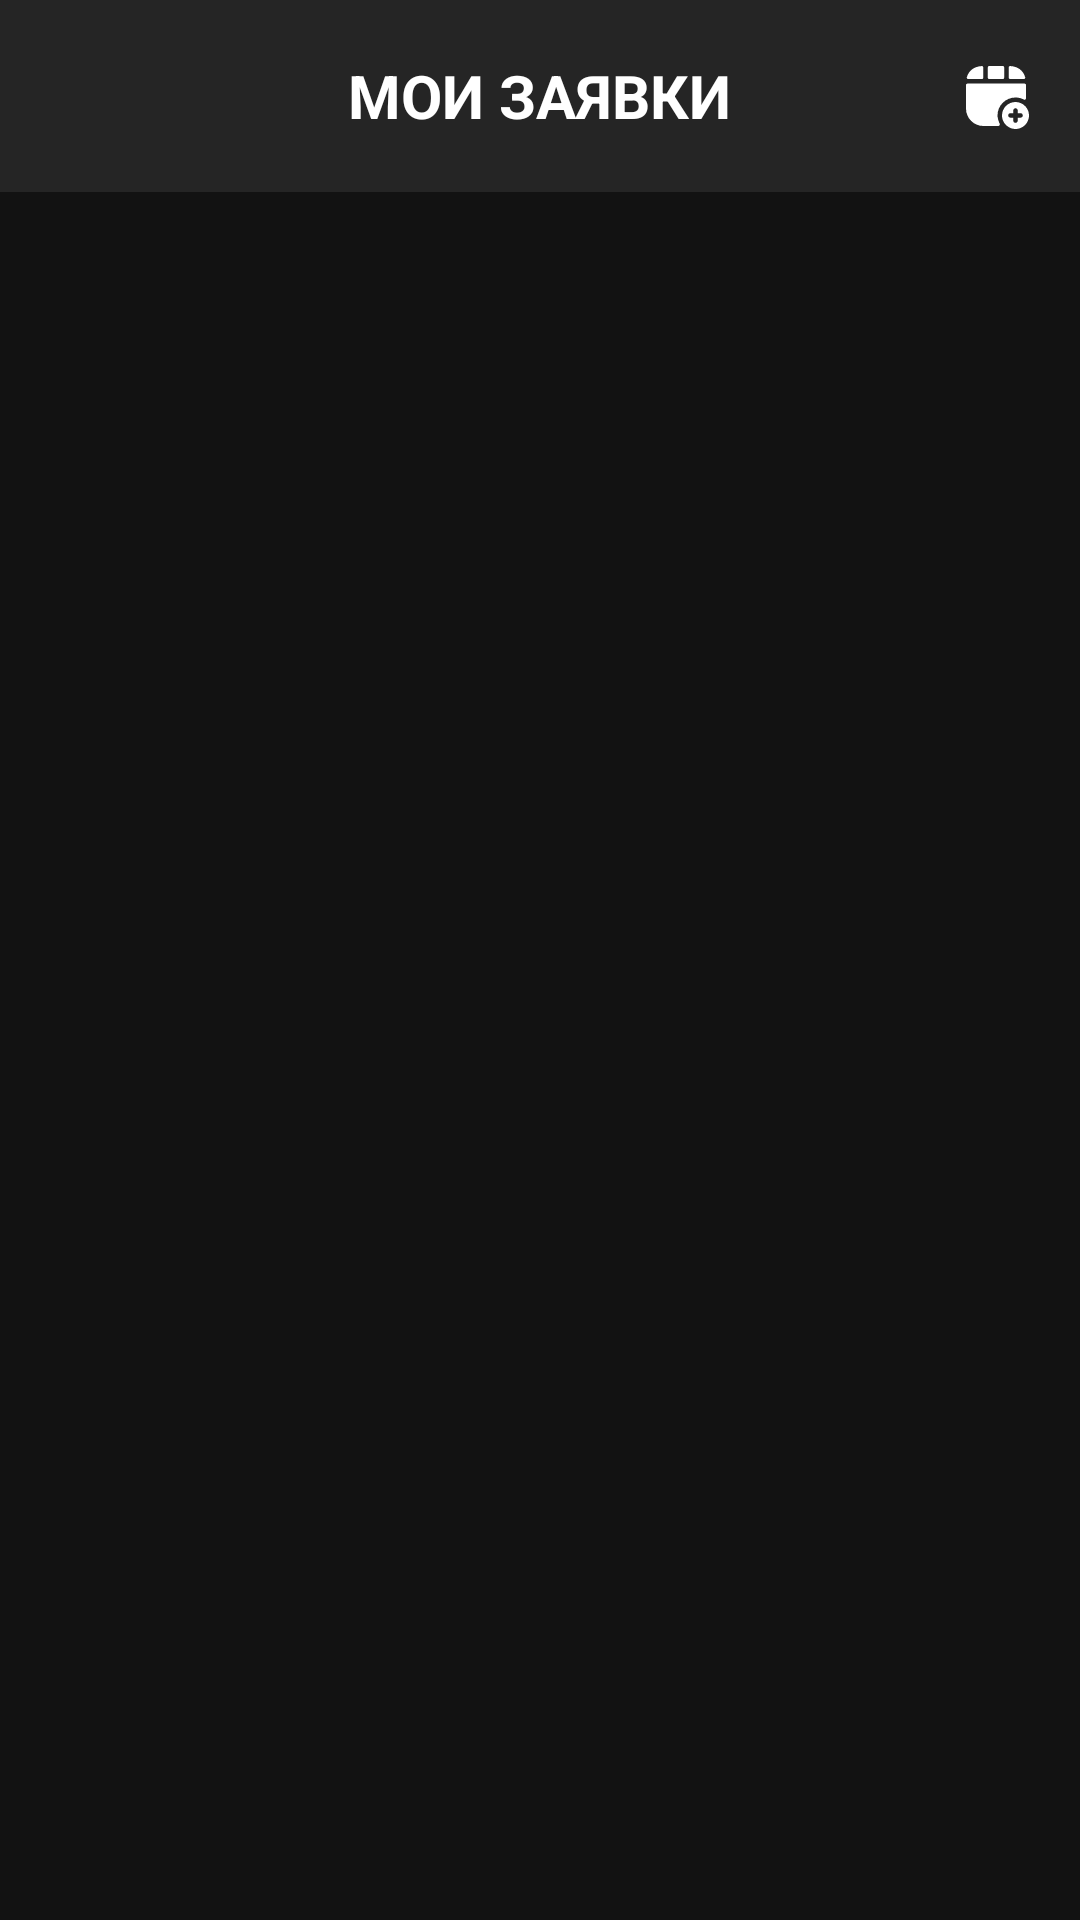

Where to tap for icons on this 1080x1920 app screen, as (x=x, y=y):
add movie filed: (x=997, y=97)
